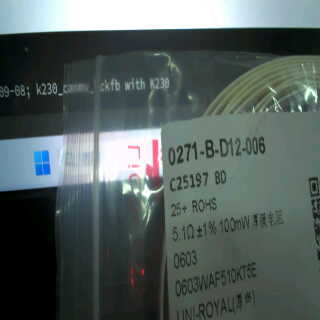5.1R: (173, 219, 197, 245)
